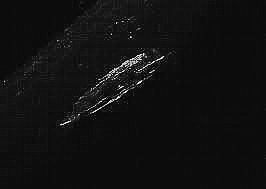ship: (55, 45, 187, 128)
